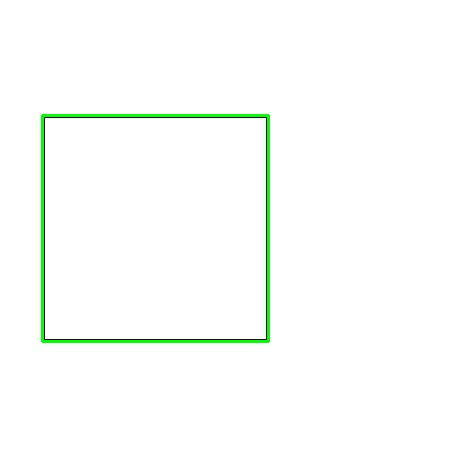line_segment: (41, 114, 270, 343)
